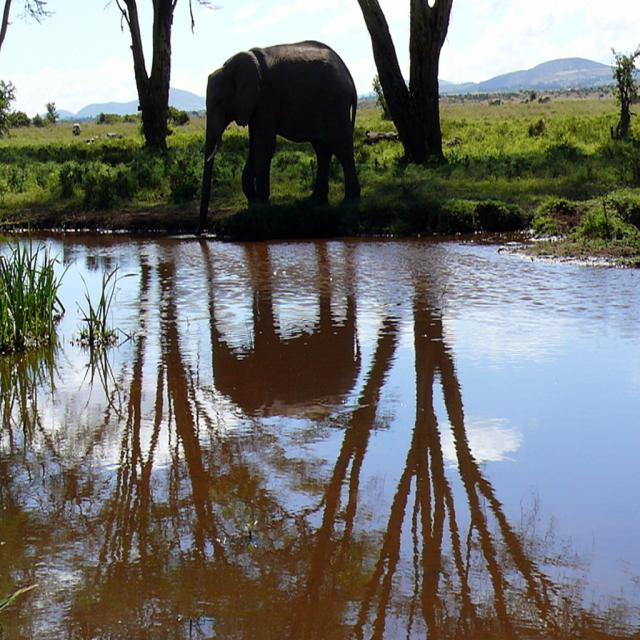Elephant: (195, 39, 361, 234)
